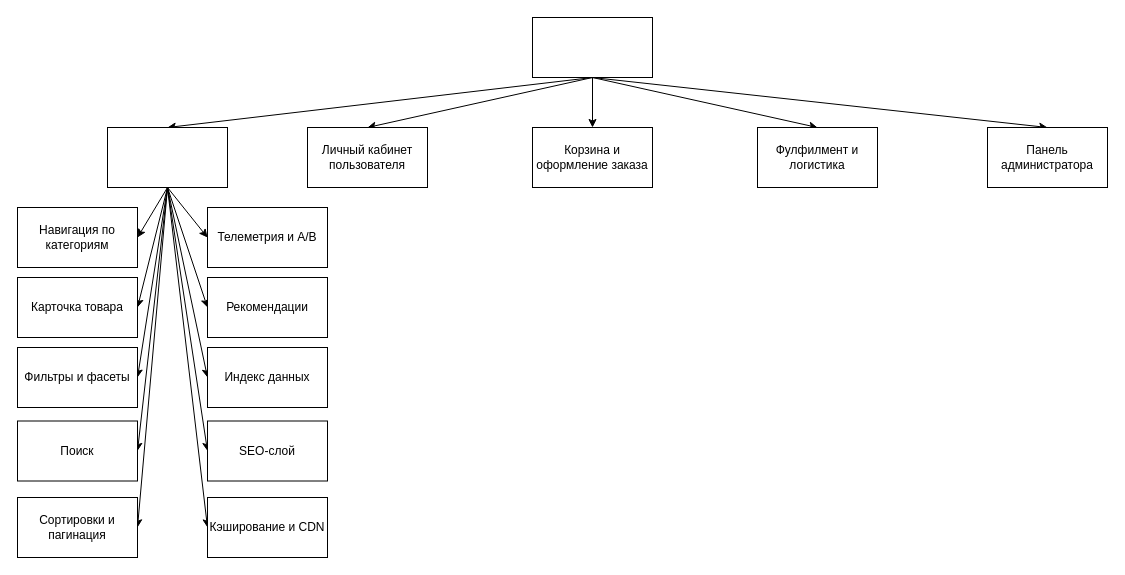
Image size: 1125x575. Some labels were removed from this diagram. The centre of each missing label's shape, as x and y in pixels:
Интернет-магазин: [592,47]
Каталог и поиск: [167,157]
